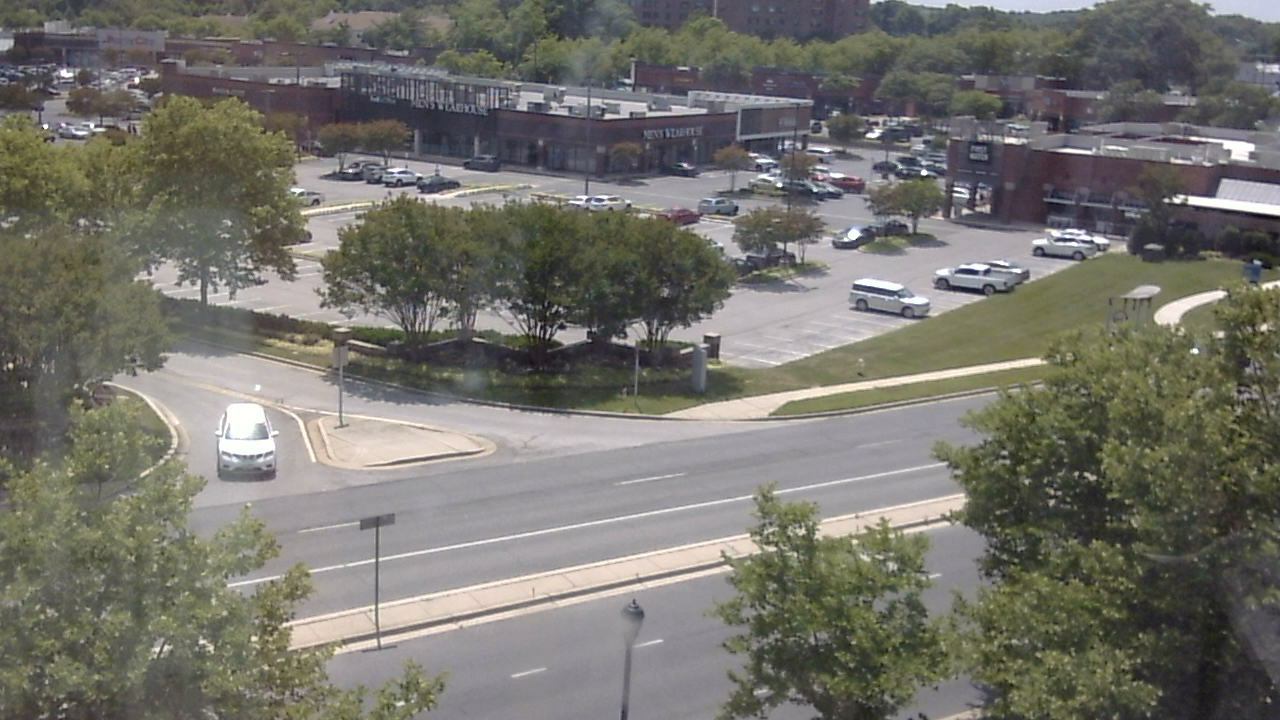Car: (216, 397, 292, 489)
